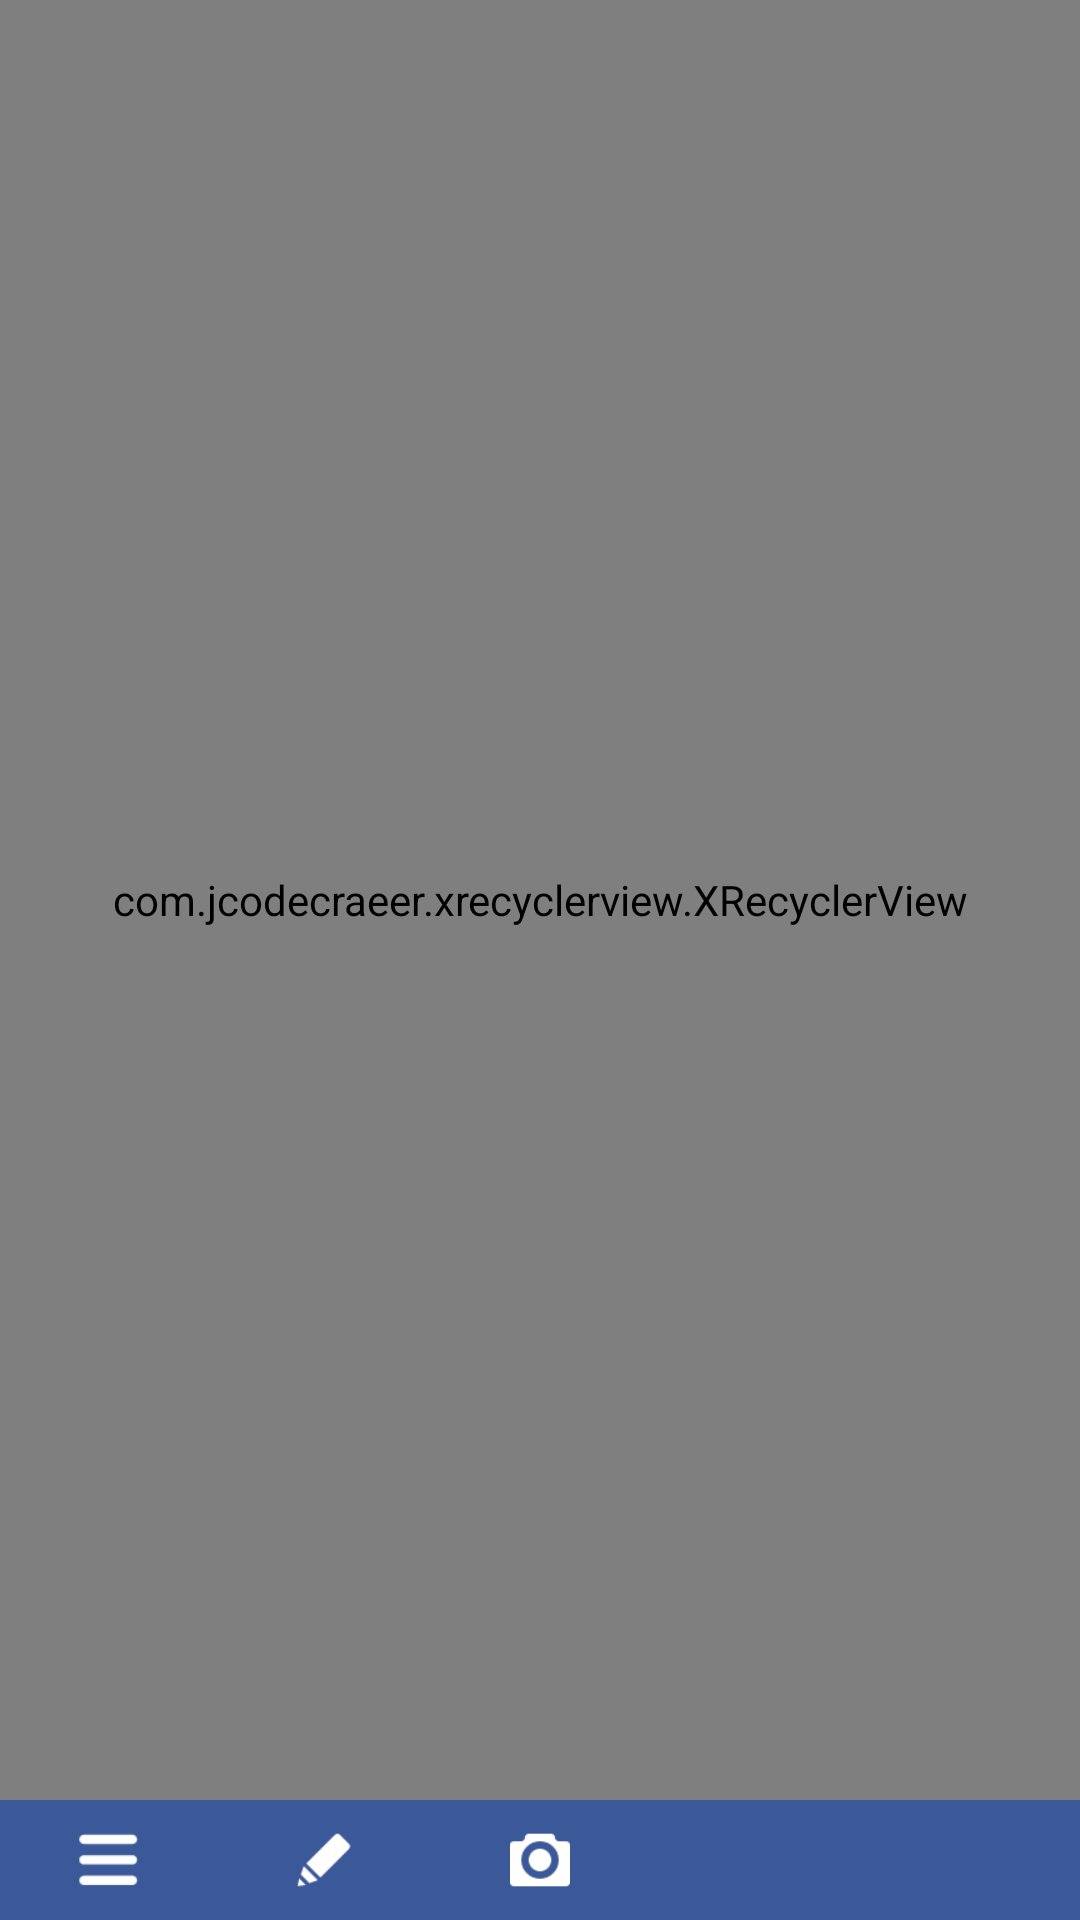

Named icons in this screenshot (1080 x 1920) and their centers, (x=x, y=y):
camera: (x=540, y=1860)
menu: (x=108, y=1859)
pen: (x=324, y=1860)
